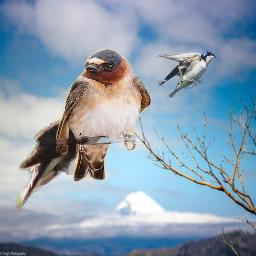Cuckoo: (16, 99, 115, 217)
Swallow: (56, 48, 151, 182), (154, 50, 217, 98)
